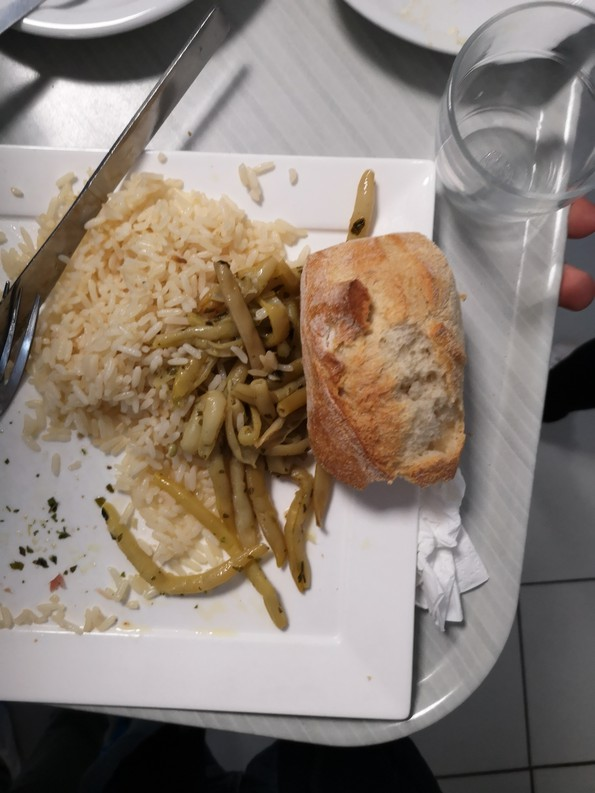cup: (440, 3, 595, 211)
cutlery: (1, 8, 244, 360)
orga: (104, 189, 294, 604), (302, 243, 485, 479)
trash: (414, 491, 491, 632)
